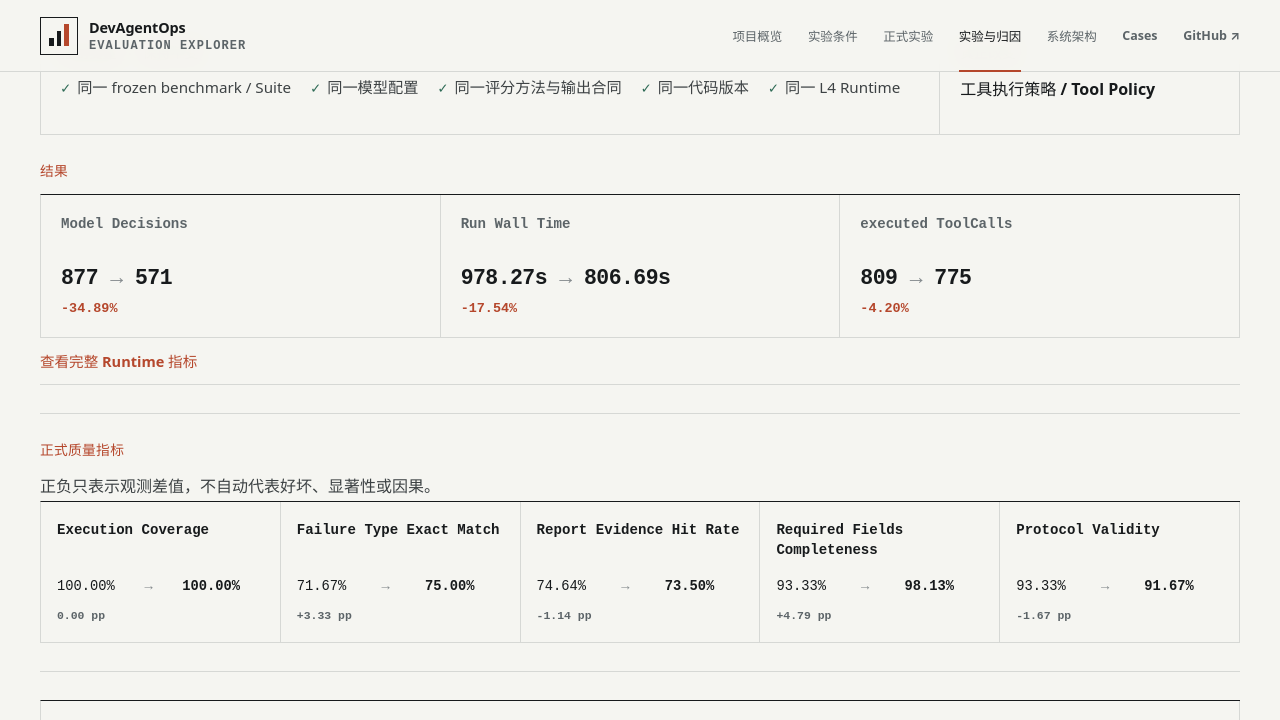
Test: Phase 2D Experiment & Attribution page › keeps secondary metrics and methodology explanation progressively disclosed
(page scrolled)
Click the heading "查看完整 Runtime 指标" at (119, 361), box [40,351,197,371]
(page scrolled)
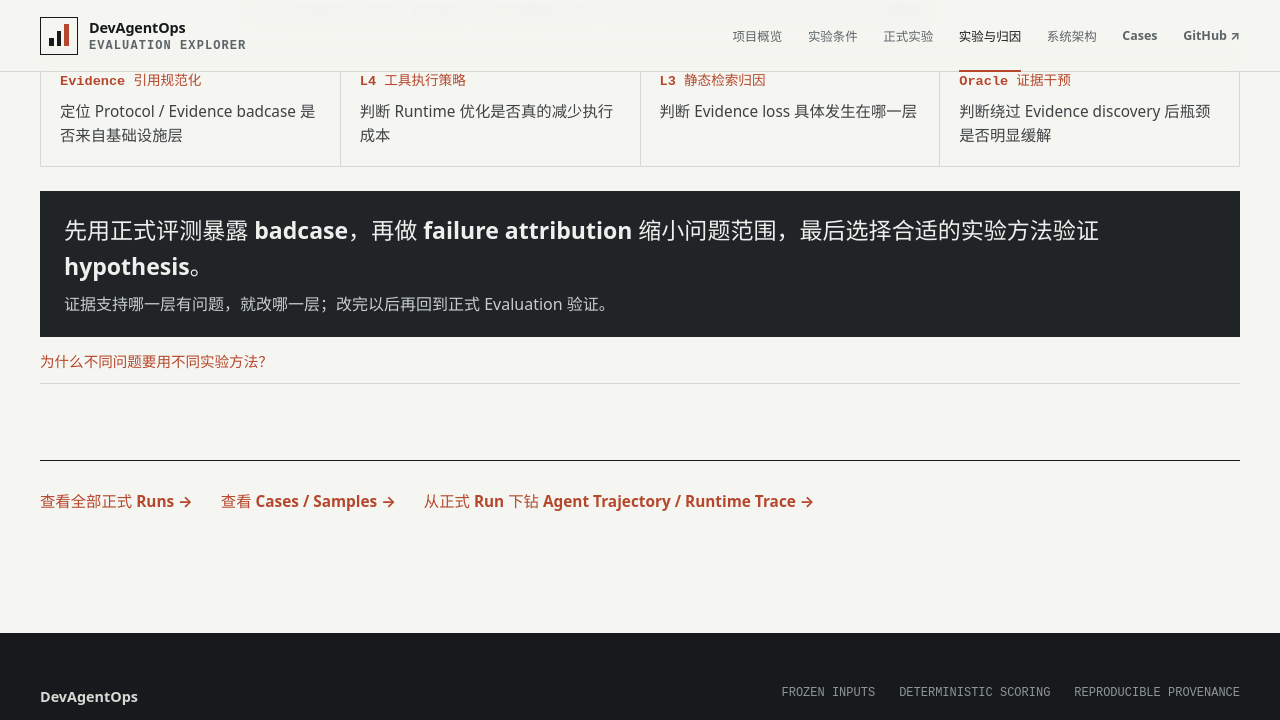
Click the heading "为什么不同问题要用不同实验方法？" at (156, 361), box [40,351,273,371]
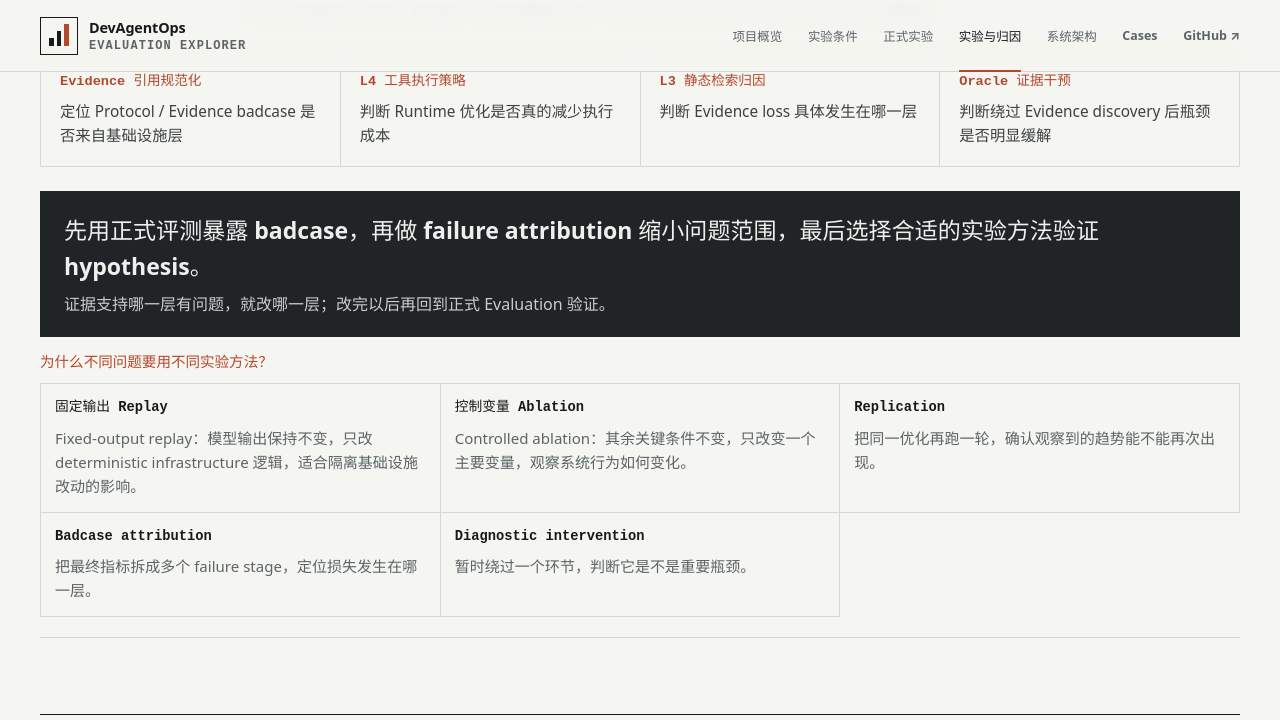
Expected: the text "固定输出 Replay" is shown, [55,400,168,415]
Expected: the text "控制变量 Ablation" is shown, [455,400,584,415]
Expected: the text "Badcase attribution" is shown, [55,529,212,544]
